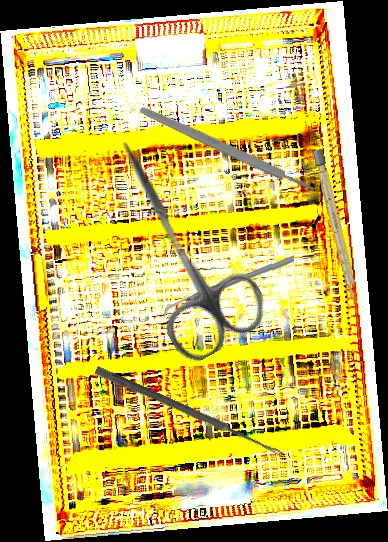Chopper: (163, 249, 295, 324)
Iris Scissors: (76, 119, 276, 369)
Scalpel Handle: (138, 104, 317, 195), (312, 148, 361, 306)
Surgical Spoon: (93, 365, 285, 459)
